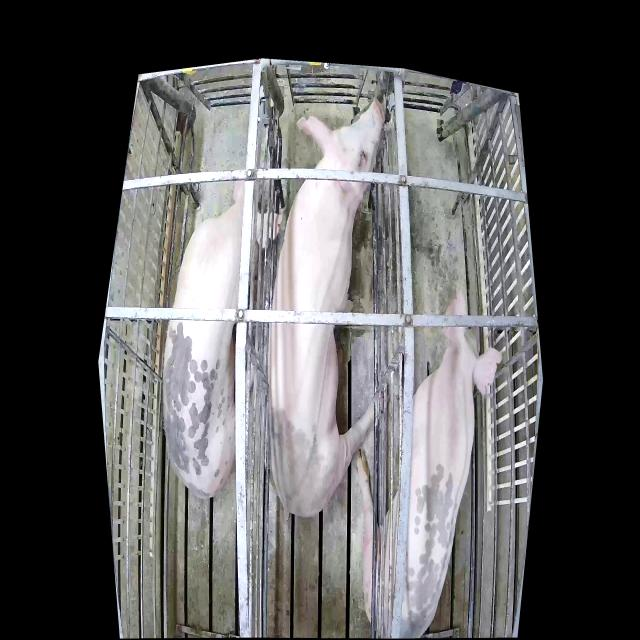pig: (353, 282, 503, 635), (267, 97, 385, 519), (165, 182, 283, 497)
